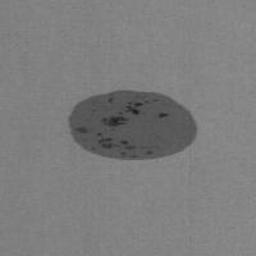Oil spot: (67, 90, 198, 161)
